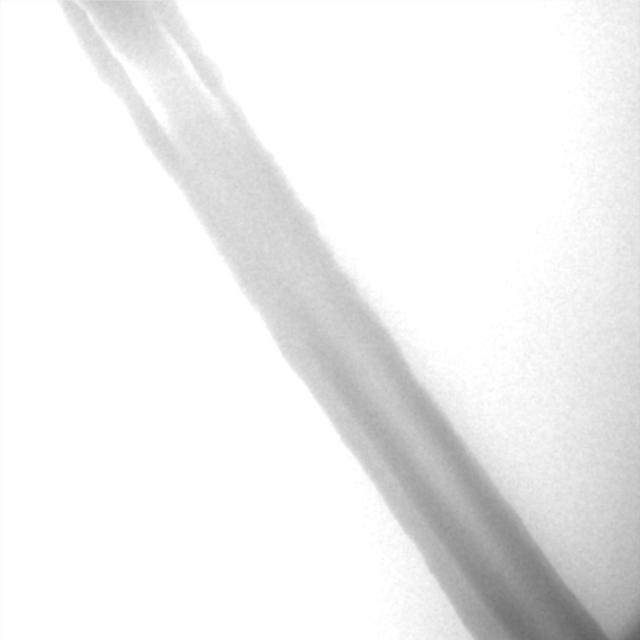unfused: (79, 0, 230, 142)
